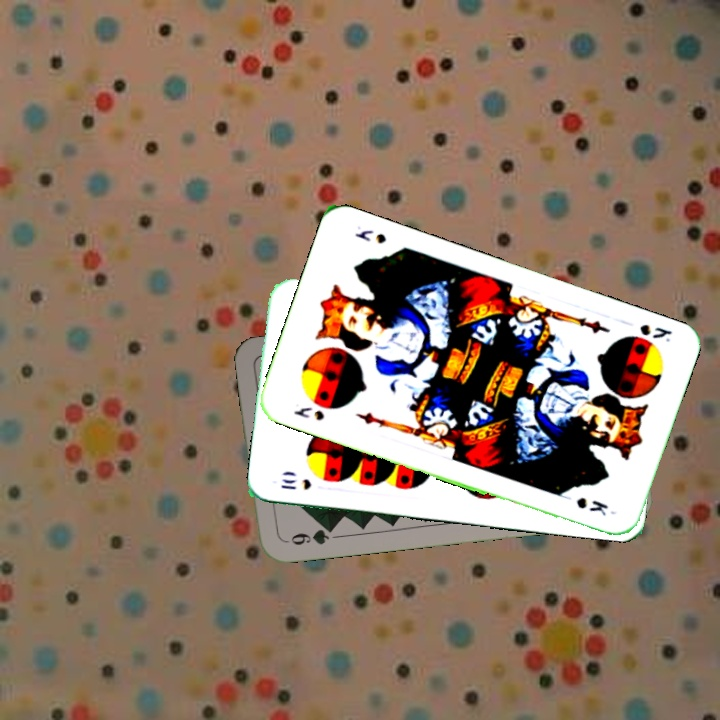G9: (279, 522, 338, 548)
S10: (276, 475, 314, 492)
SK: (635, 320, 675, 345), (289, 403, 327, 423)
